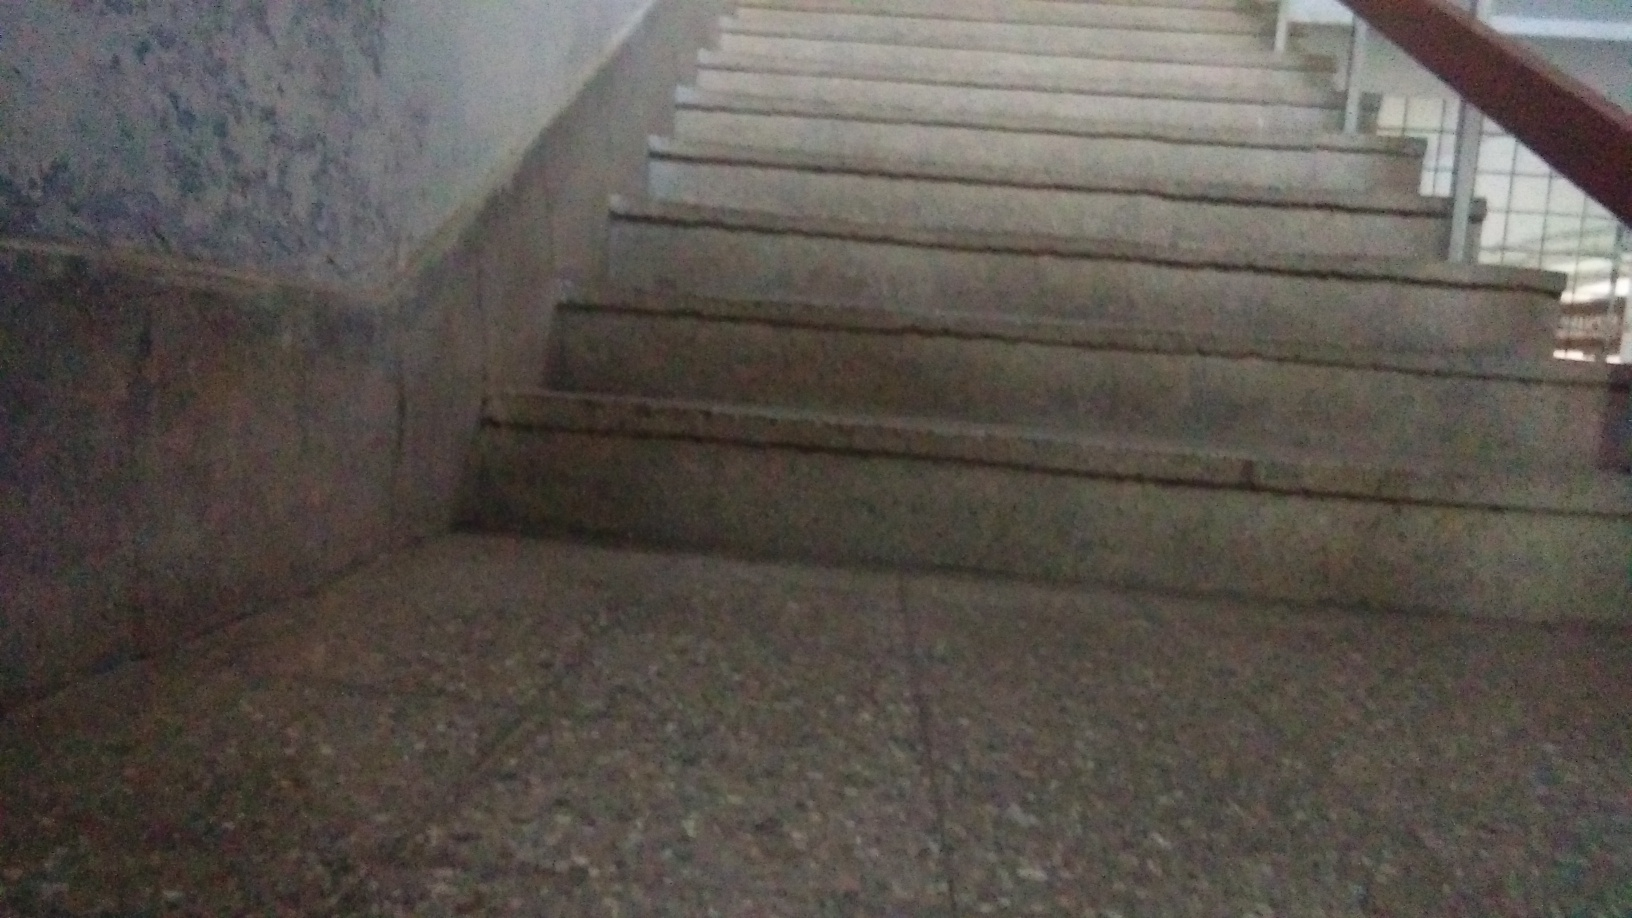stairs_up: (488, 13, 1620, 628)
